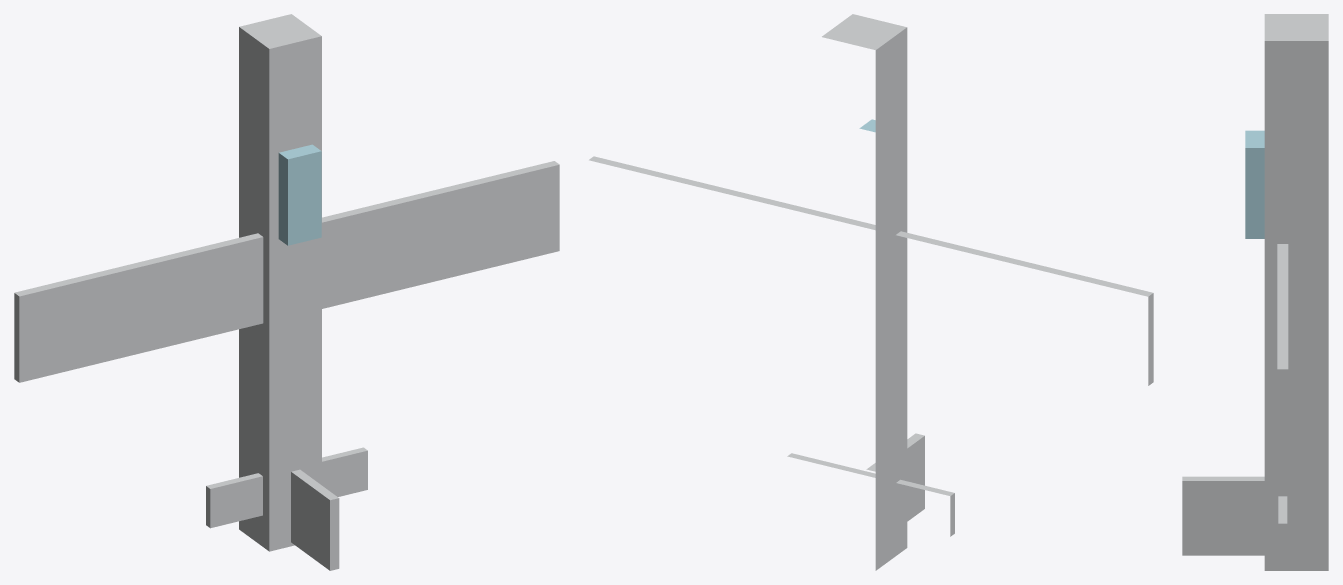
File: aircraft.glb
3 views of the same model, side by side, from view 1: azimuth 30°, elevation 25°; view 2: azimuth 150°, elevation 25°; view 3: azimuth 270°, elevation 25° (orthographic). The views are drawn at different scales.
Bounding box in the file's own units: 7.2 × 6.4 × 1.6.
